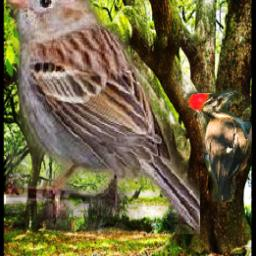Sparrow: (6, 0, 200, 234)
Woodpecker: (186, 90, 253, 203)
